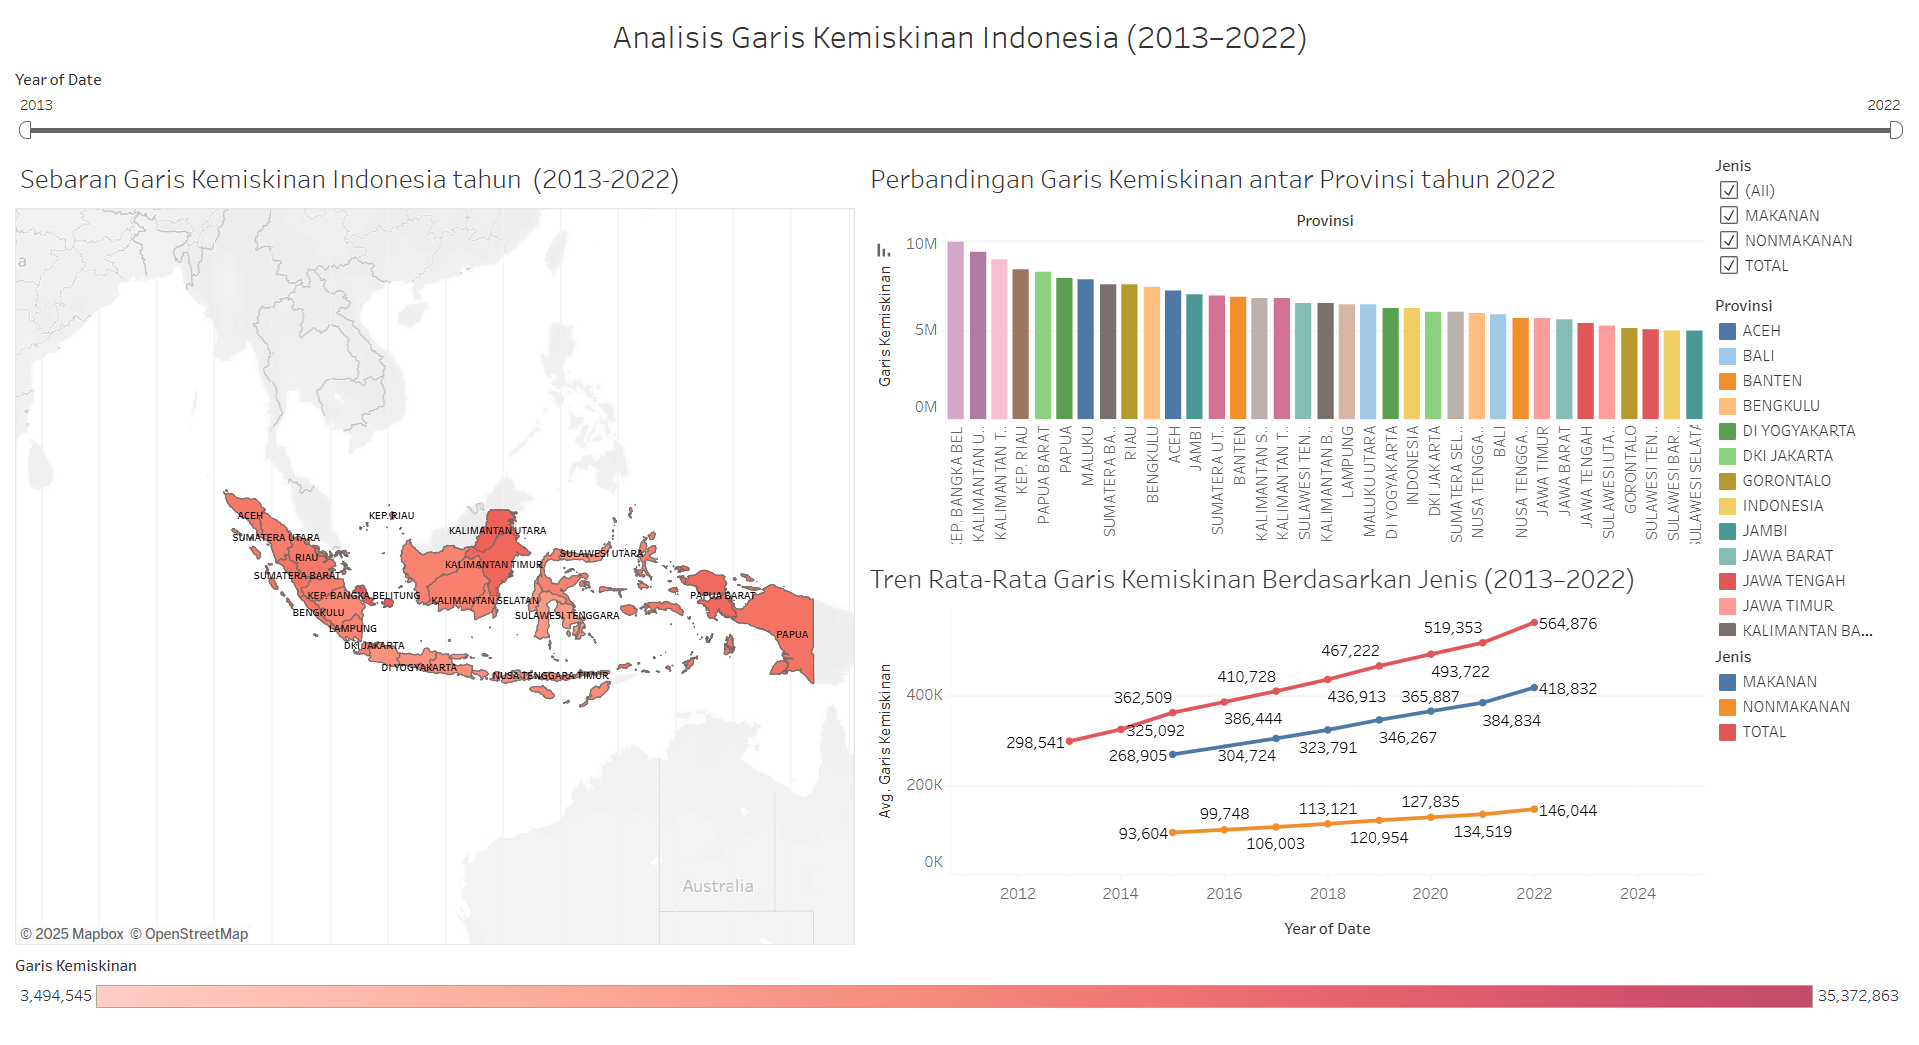

Layout of this report page (visuals, bound fields, positions):
{"tool":"tableau","page":{"name":"Analisis Garis Kemiskinan Indonesia (2013–2022)","canvas":[1000,1000],"units":"permille","ordinal":0},"visuals":[{"type":"title","box":[4.8,9.3,990.3,58.1]},{"type":"filter","title":"Tren Rata-Rata Garis Kemiskinan Berdasarkan Jenis (2013–2022)","param":"[federated.0wgjod51dqhnge11ofip5124cuh1].[tyr:Date:qk]","box":[4.8,67.4,990.3,63.9]},{"type":"worksheet","title":"Sebaran Garis Kemiskinan Indonesia tahun  (2013-2022)","mark":"Multipolygon","box":[4.8,149.7,446.9,758.7]},{"type":"worksheet","title":"Perbandingan Garis Kemiskinan antar Provinsi tahun 2022","mark":"Automatic","rows":["Garis Kemiskinan"],"cols":["provinsi"],"box":[451.7,149.7,446.9,379.3]},{"type":"filter","title":"Sebaran Garis Kemiskinan Indonesia tahun  (2013-2022)","param":"[federated.0wgjod51dqhnge11ofip5124cuh1].[none:jenis:nk]","box":[898.6,149.7,96.6,148.7]},{"type":"legend","title":"Perbandingan Garis Kemiskinan antar Provinsi tahun 2022","param":"[federated.0wgjod51dqhnge11ofip5124cuh1].[none:provinsi:nk]","box":[898.6,298.3,96.6,317.3]},{"type":"worksheet","title":"Tren Rata-Rata Garis Kemiskinan Berdasarkan Jenis (2013–2022)","mark":"Automatic","rows":["Garis Kemiskinan"],"cols":["Date"],"box":[451.7,529,446.9,379.4]},{"type":"legend","title":"Tren Rata-Rata Garis Kemiskinan Berdasarkan Jenis (2013–2022)","param":"[federated.0wgjod51dqhnge11ofip5124cuh1].[none:jenis:nk]","box":[898.6,615.6,96.6,108]},{"type":"legend","title":"Sebaran Garis Kemiskinan Indonesia tahun  (2013-2022)","param":"[federated.0wgjod51dqhnge11ofip5124cuh1].[sum:Garis Kemiskinan:qk]","box":[4.8,908.4,990.3,82.4]}]}

Visuals, with their boxes on the dashboard's canvas, which has no fixed pixel size, in thousandths of its width and height (x1, y1, x2, y2). These are canvas units, not pixel positions in the 1919x1045 screenshot, which may show the page scaled, cropped or inside an application window:
title: x1=5 y1=9 x2=995 y2=67
"Tren Rata-Rata Garis Kemiskinan Berdasarkan Jenis (2013–2022)" filter: x1=5 y1=67 x2=995 y2=131
"Sebaran Garis Kemiskinan Indonesia tahun  (2013-2022)" worksheet (Multipolygon marks): x1=5 y1=150 x2=452 y2=908
"Perbandingan Garis Kemiskinan antar Provinsi tahun 2022" worksheet: x1=452 y1=150 x2=899 y2=529
"Sebaran Garis Kemiskinan Indonesia tahun  (2013-2022)" filter: x1=899 y1=150 x2=995 y2=298
"Perbandingan Garis Kemiskinan antar Provinsi tahun 2022" legend: x1=899 y1=298 x2=995 y2=616
"Tren Rata-Rata Garis Kemiskinan Berdasarkan Jenis (2013–2022)" worksheet: x1=452 y1=529 x2=899 y2=908
"Tren Rata-Rata Garis Kemiskinan Berdasarkan Jenis (2013–2022)" legend: x1=899 y1=616 x2=995 y2=724
"Sebaran Garis Kemiskinan Indonesia tahun  (2013-2022)" legend: x1=5 y1=908 x2=995 y2=991
